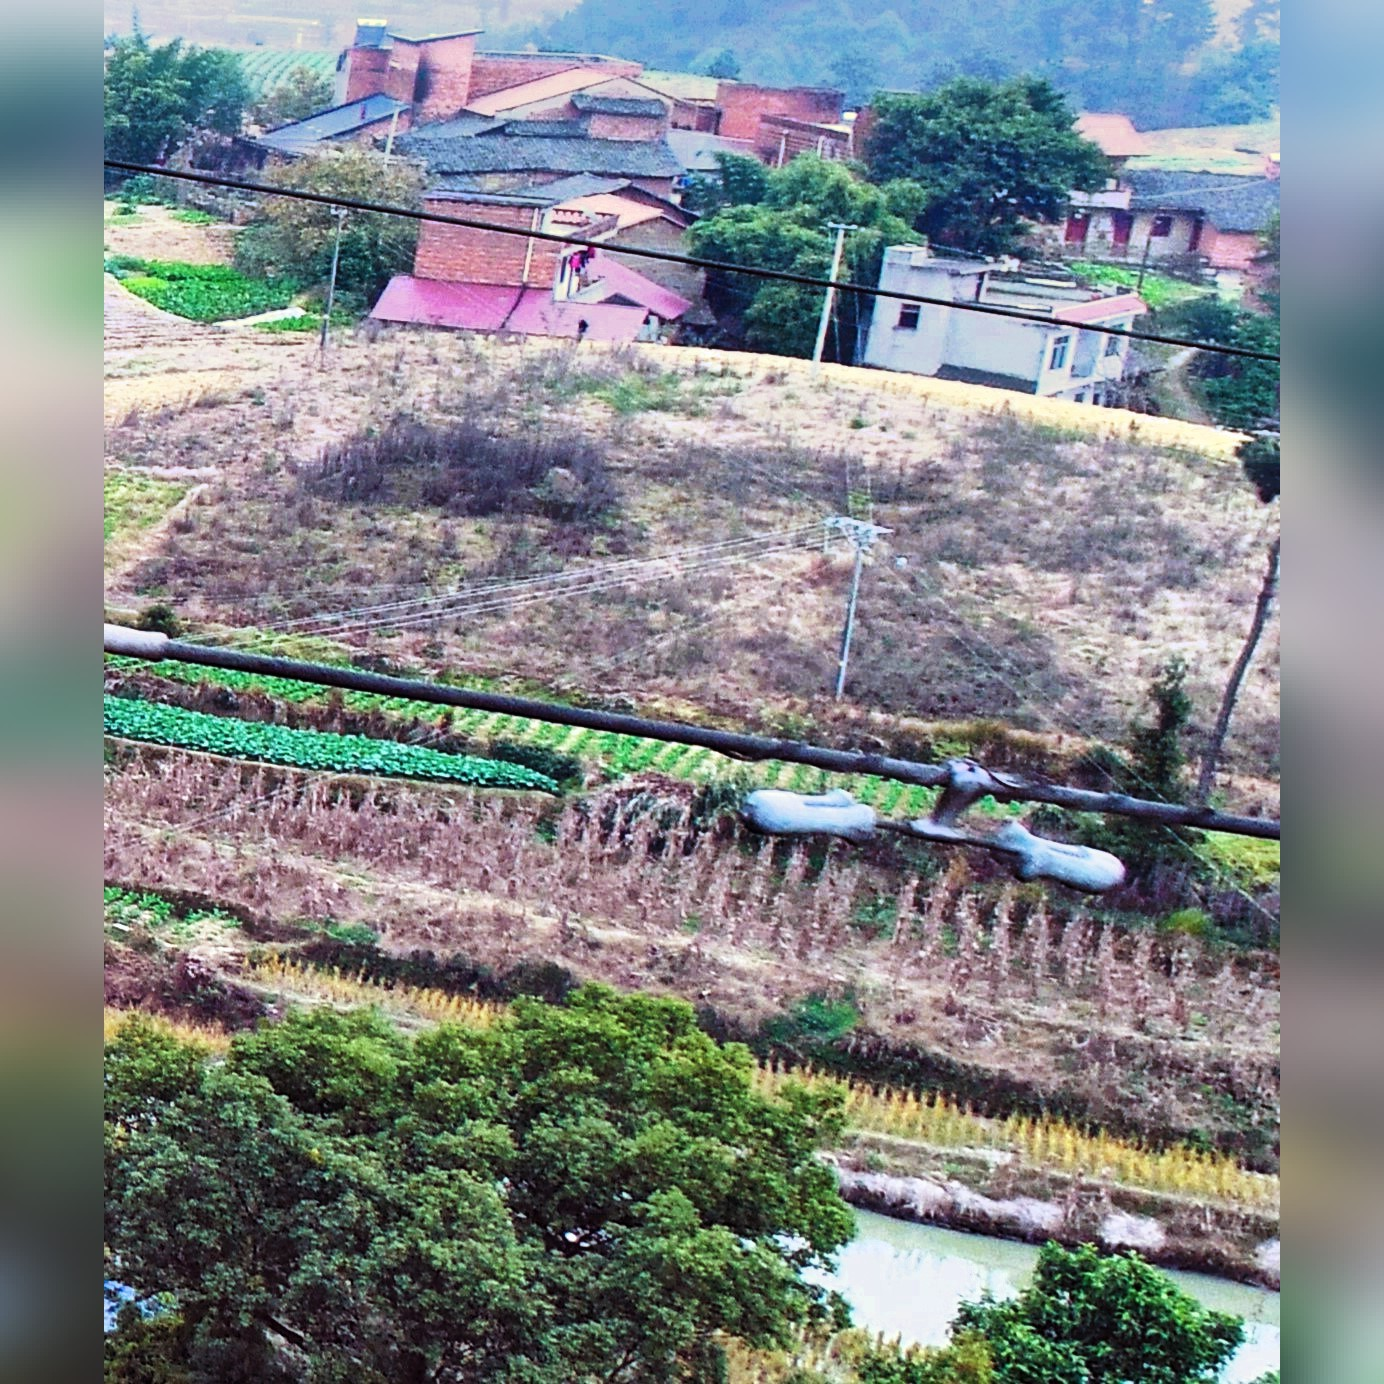Shockproof hammer: (724, 719, 1134, 902)
